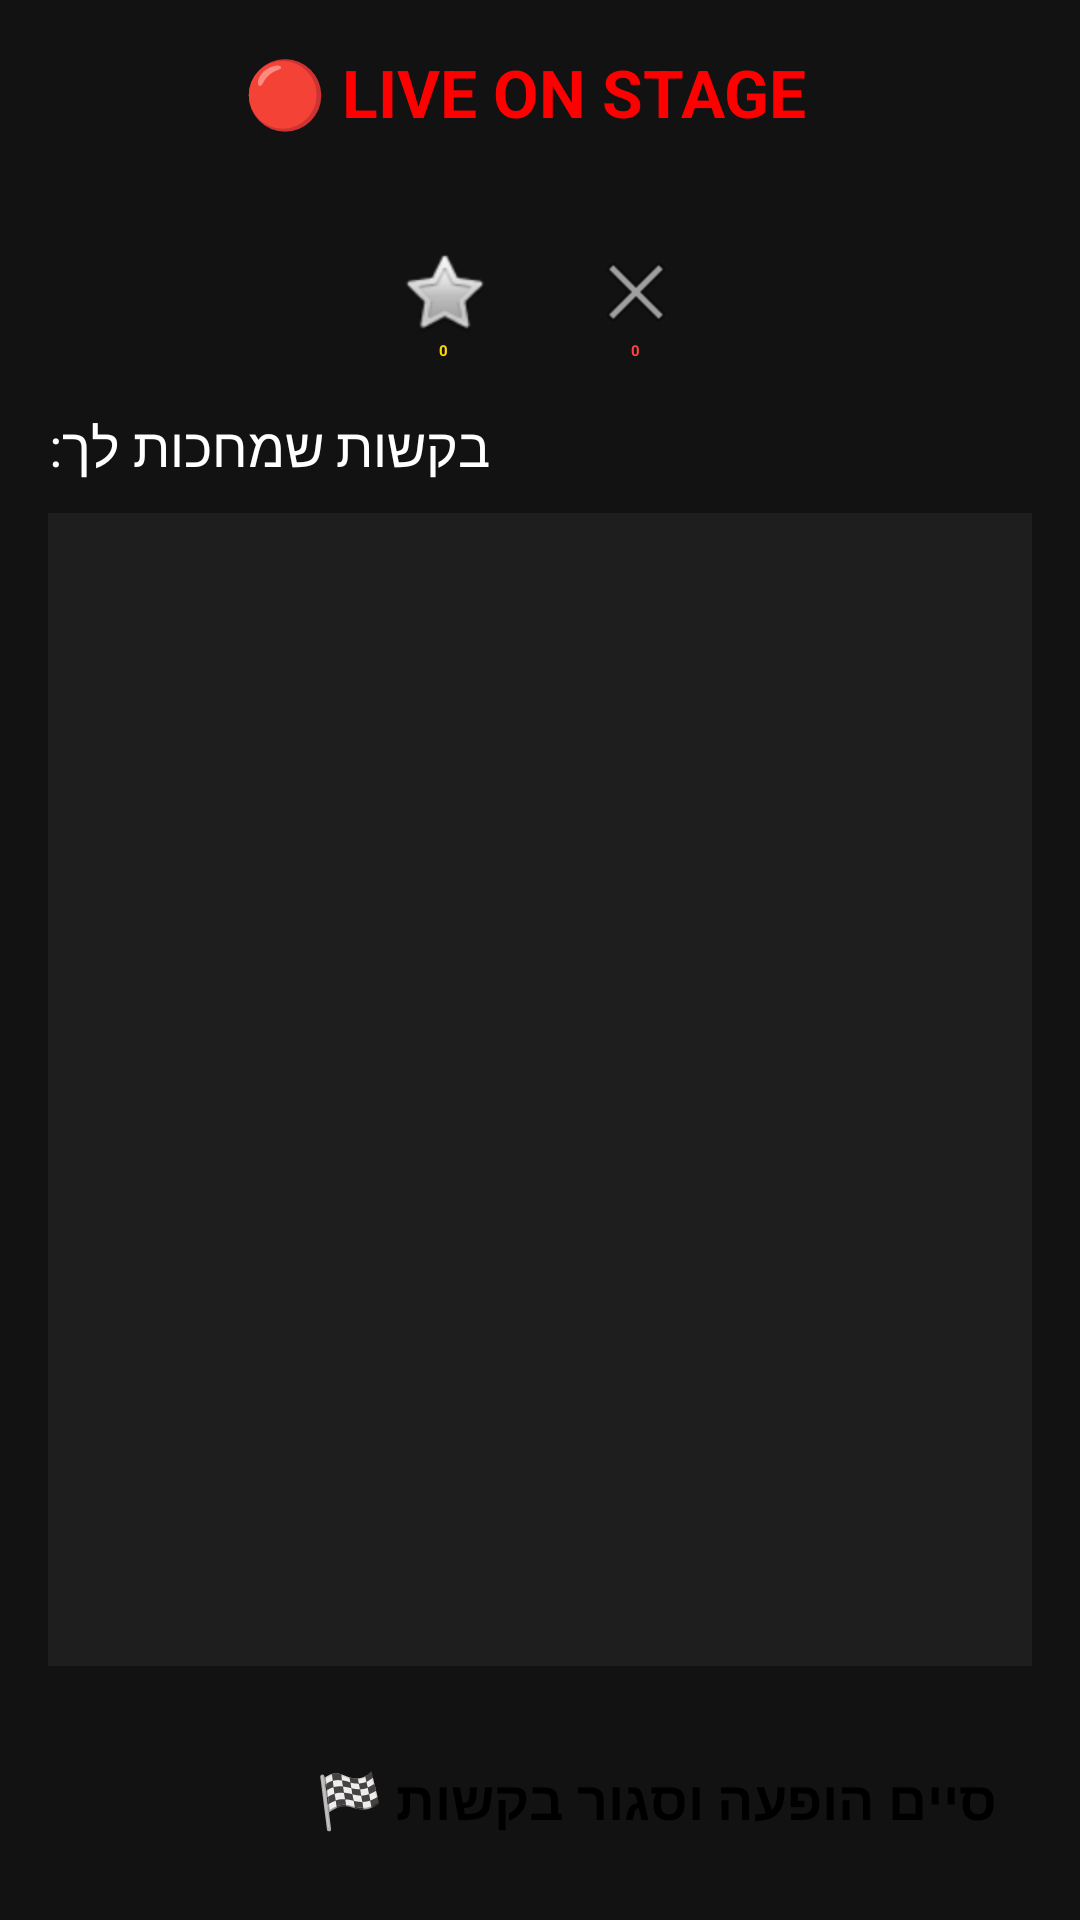

Named icons in this screenshot (1080×1920) and their centers, point (x, y):
close clear cancel: point (636, 292)
star off: point (444, 291)
